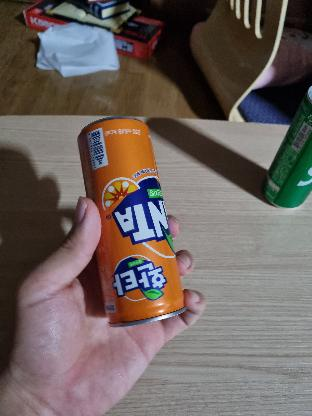Can: (70, 115, 184, 332)
